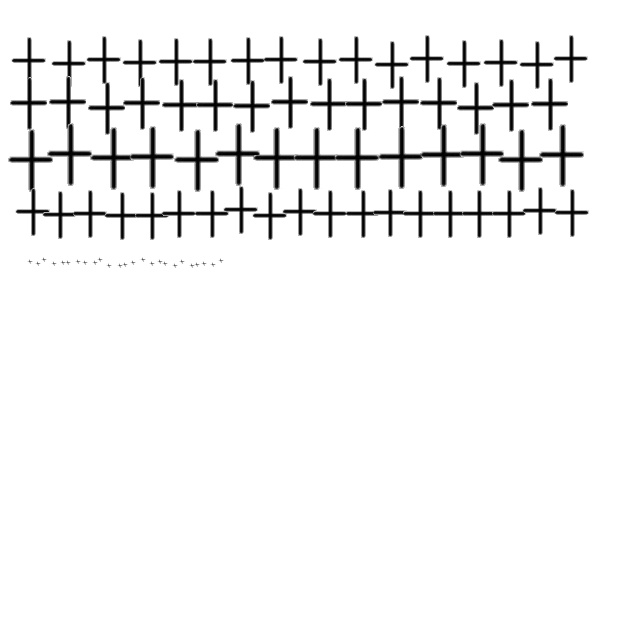double: (5, 129, 55, 193), (44, 123, 94, 187), (87, 127, 137, 191), (126, 126, 176, 190), (171, 129, 221, 193), (212, 123, 262, 187), (250, 127, 300, 191), (290, 127, 340, 191), (331, 127, 381, 191), (375, 126, 425, 190), (417, 124, 467, 188), (456, 123, 506, 187), (495, 129, 545, 193), (536, 124, 586, 188), (7, 77, 49, 131), (46, 76, 88, 130), (85, 82, 127, 136), (120, 77, 162, 131), (159, 79, 201, 133), (193, 79, 235, 133), (230, 80, 272, 134), (268, 76, 310, 130), (307, 78, 349, 132), (342, 78, 384, 132), (379, 76, 421, 130), (417, 77, 459, 131), (454, 82, 496, 136), (489, 79, 531, 133), (528, 78, 570, 132), (49, 40, 87, 90), (84, 36, 122, 86), (156, 38, 194, 88), (190, 38, 228, 88), (261, 36, 299, 86), (300, 38, 338, 88), (336, 36, 374, 86), (444, 40, 482, 90), (13, 188, 51, 238), (70, 190, 108, 240), (102, 192, 140, 242), (132, 192, 170, 242), (159, 190, 197, 240), (192, 190, 230, 240), (221, 186, 259, 236), (250, 192, 288, 242), (280, 188, 318, 238), (310, 190, 348, 240), (343, 190, 381, 240), (400, 190, 438, 240), (430, 190, 468, 240), (459, 190, 497, 240), (489, 190, 527, 240), (9, 38, 47, 86), (120, 40, 158, 88), (228, 38, 266, 86), (372, 42, 410, 90), (407, 36, 445, 84), (481, 40, 519, 88), (517, 42, 555, 90), (551, 36, 589, 84), (40, 192, 78, 240), (370, 190, 408, 238), (520, 188, 558, 236), (552, 190, 590, 238), (60, 260, 66, 266), (65, 260, 71, 266), (82, 260, 88, 266), (92, 260, 98, 266), (122, 262, 128, 268), (130, 260, 136, 266), (194, 262, 200, 268), (210, 262, 216, 268), (218, 258, 224, 264), (27, 260, 33, 264), (35, 262, 41, 266), (41, 258, 47, 262), (51, 262, 57, 266), (75, 260, 81, 264), (97, 258, 103, 262), (106, 264, 112, 268), (117, 264, 123, 268), (140, 258, 146, 262), (149, 262, 155, 266), (157, 260, 163, 264), (162, 262, 168, 266), (172, 264, 178, 268), (179, 260, 185, 264), (189, 264, 195, 268), (201, 262, 207, 266)
